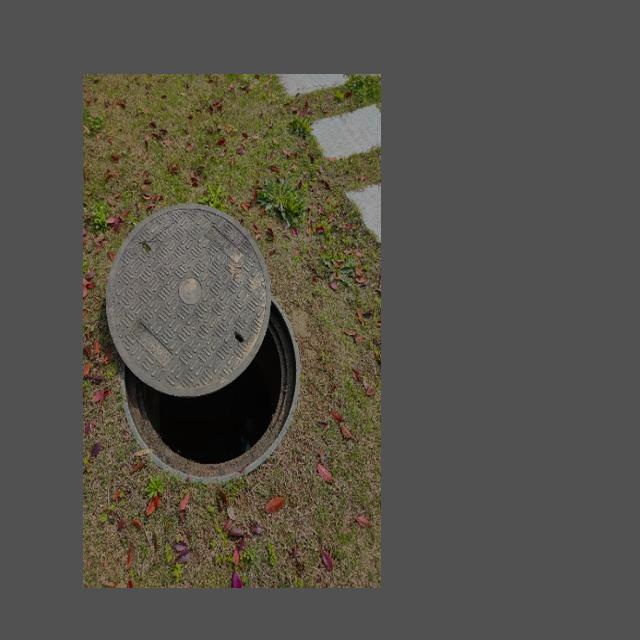uncovered: (105, 203, 300, 481)
